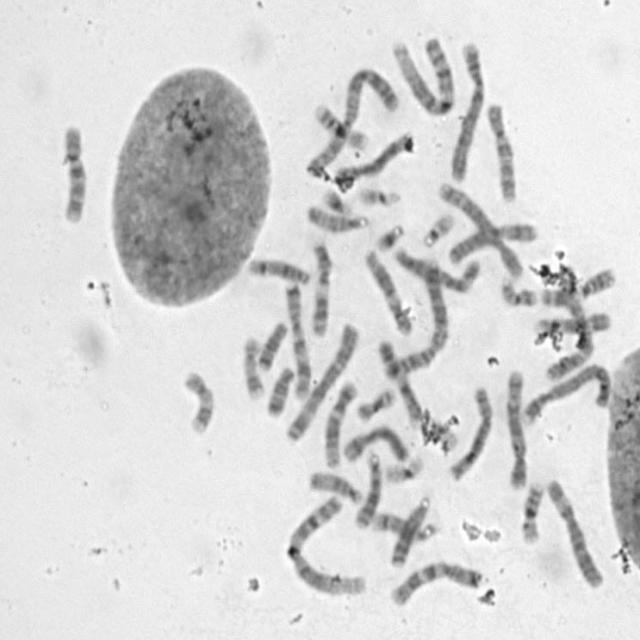A1: (285, 493, 370, 599), (391, 36, 457, 118)
A2: (305, 65, 402, 180), (382, 262, 449, 382)
A3: (284, 318, 360, 445), (540, 262, 595, 382)
B4: (521, 362, 612, 425), (449, 39, 486, 183)
B5: (437, 179, 525, 280), (506, 367, 529, 489)
C10: (484, 99, 520, 204), (61, 121, 91, 236)
C11: (539, 264, 617, 310), (308, 240, 336, 338)
C12: (363, 248, 414, 339), (322, 379, 359, 470)
C6: (546, 476, 607, 591), (394, 245, 482, 293)
C7: (388, 560, 485, 606), (284, 281, 314, 401)
C8: (448, 385, 494, 483), (336, 131, 412, 182)
C9: (374, 340, 424, 425), (532, 306, 612, 335)
D13: (388, 495, 430, 568), (354, 449, 382, 532)
D14: (371, 508, 437, 544), (245, 256, 312, 286)
D15: (305, 203, 370, 234), (309, 468, 363, 505)
E16: (313, 100, 370, 152), (520, 481, 546, 547)
E17: (180, 370, 217, 434), (241, 335, 266, 399)
E18: (264, 365, 297, 418), (256, 319, 288, 372)
F19: (383, 453, 425, 484), (428, 418, 460, 452)
F20: (356, 386, 395, 426), (497, 275, 537, 307)
G21: (372, 222, 406, 254), (321, 186, 353, 216)
G22: (419, 212, 454, 248), (357, 185, 403, 210)
X: (447, 221, 538, 265), (340, 423, 411, 468)
